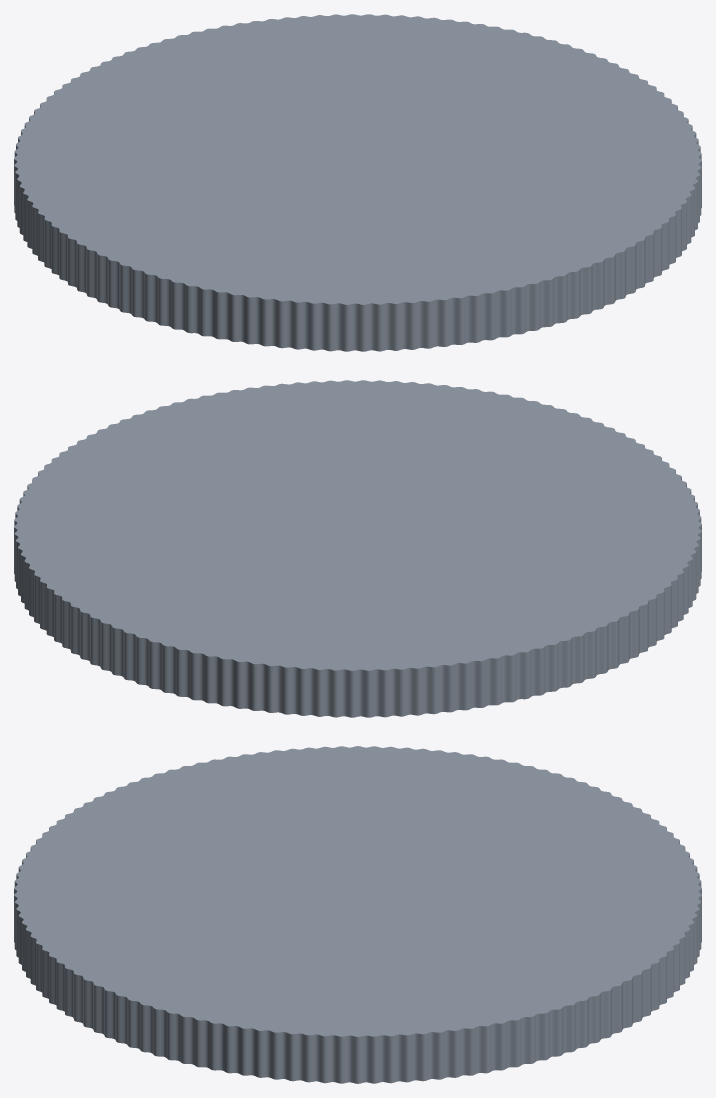
The model's file is model_UNFINISHED.obj.
3 renders of one model, top to bottom at view 1: azimuth 30°, elevation 25°; view 2: azimuth 150°, elevation 25°; view 3: azimuth 270°, elevation 25°, orthographic.
Parts seen in each view (by area): view 1: JPY100_1957_REEDED; view 2: JPY100_1957_REEDED; view 3: JPY100_1957_REEDED.
Boxes of the visible parts, bbox=[...] form: JPY100_1957_REEDED: bbox=[14, 14, 701, 351]; JPY100_1957_REEDED: bbox=[14, 380, 701, 717]; JPY100_1957_REEDED: bbox=[14, 746, 701, 1083].
Size of the model in its own units: 0.0226 by 0.0017 by 0.0226.
